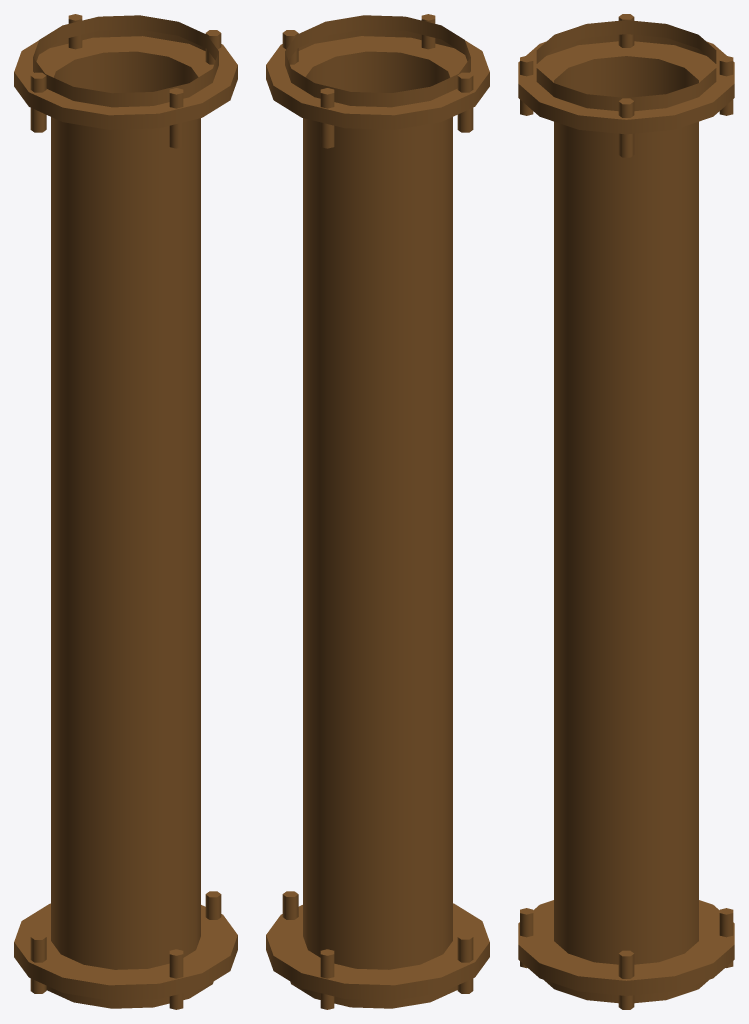
Rendered from ULY_PROP_tuyau_petit_droit.fbx.
3 views of the same model, side by side, from view 1: azimuth 30°, elevation 25°; view 2: azimuth 150°, elevation 25°; view 3: azimuth 270°, elevation 25° (orthographic).
Visible parts, largest first — view 1: ULY_PROP_tuyau_petit_droit; view 2: ULY_PROP_tuyau_petit_droit; view 3: ULY_PROP_tuyau_petit_droit.
Part boxes in pixels (left/top/right/bottom): ULY_PROP_tuyau_petit_droit: left=14, top=14, right=237, bottom=1009; ULY_PROP_tuyau_petit_droit: left=266, top=14, right=489, bottom=1009; ULY_PROP_tuyau_petit_droit: left=518, top=14, right=734, bottom=1009.
Bounding box in the file's own units: 29.82 × 134 × 29.07.
